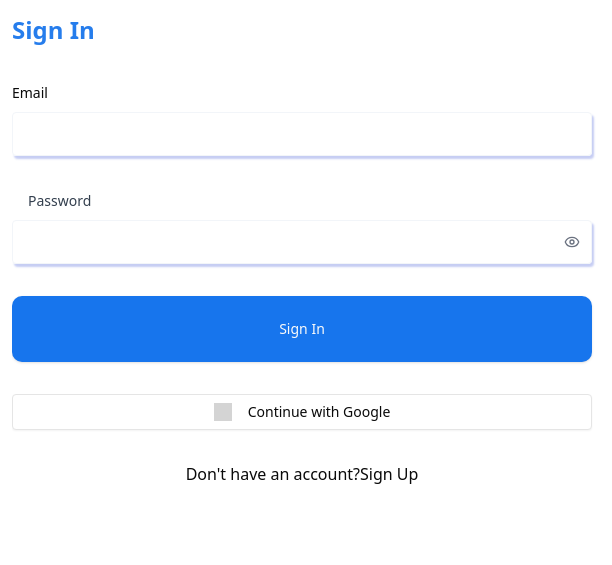
AuthForm – Sign In › shows error when sign-in fails
Type "test@mail.com" into the field labelled "Email" at x=302, y=134, box [12, 112, 592, 156]
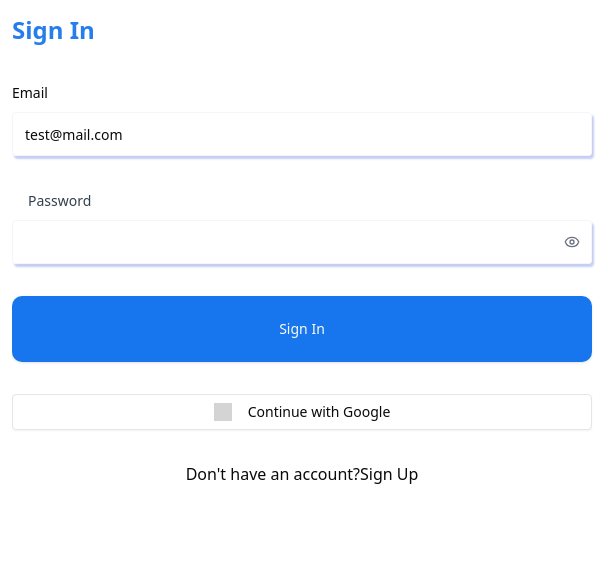
Type "Password1" into the password field named "password" at x=302, y=242, box [12, 220, 592, 264]
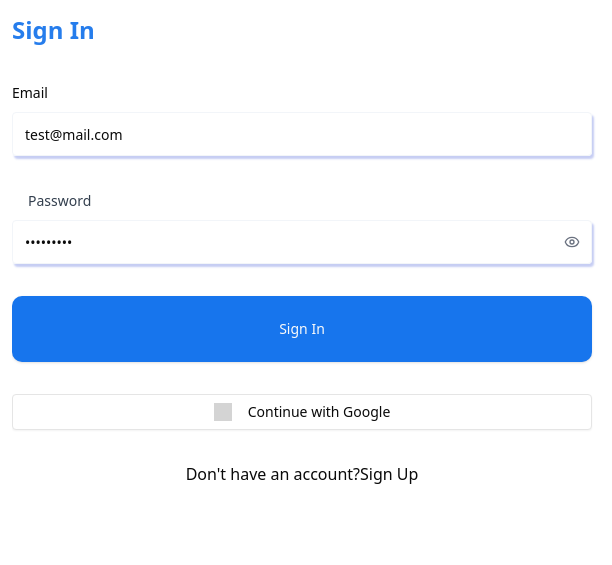
Click the button "Sign In" at x=302, y=329, box [12, 296, 592, 362]
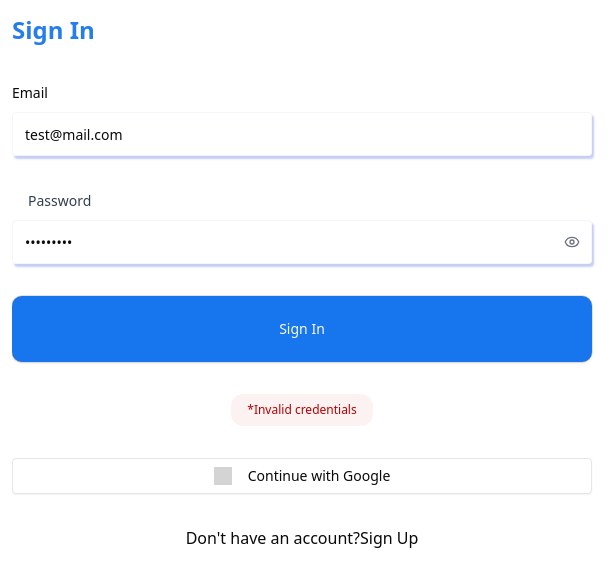
expect the text "*Invalid credentials" is shown: met, box [231, 394, 373, 426]
